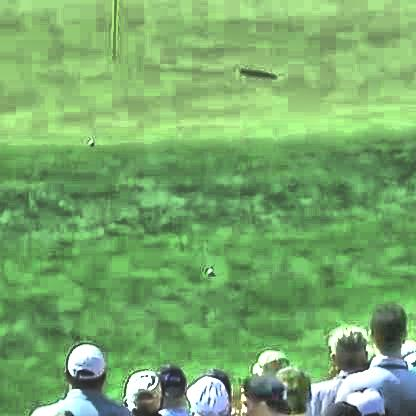golfball: (203, 263, 210, 273)
